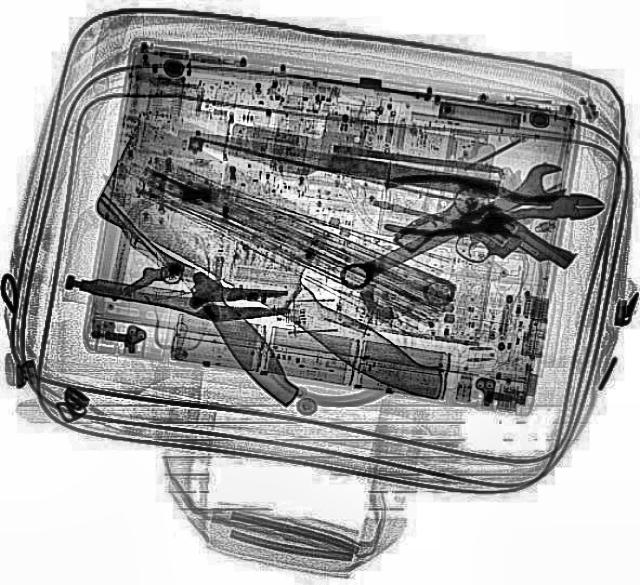Gun: (388, 176, 578, 318)
Knife: (70, 128, 494, 408), (89, 159, 307, 409), (172, 123, 500, 209)
Pliers: (384, 172, 606, 236)
Wrench: (330, 154, 578, 298)
